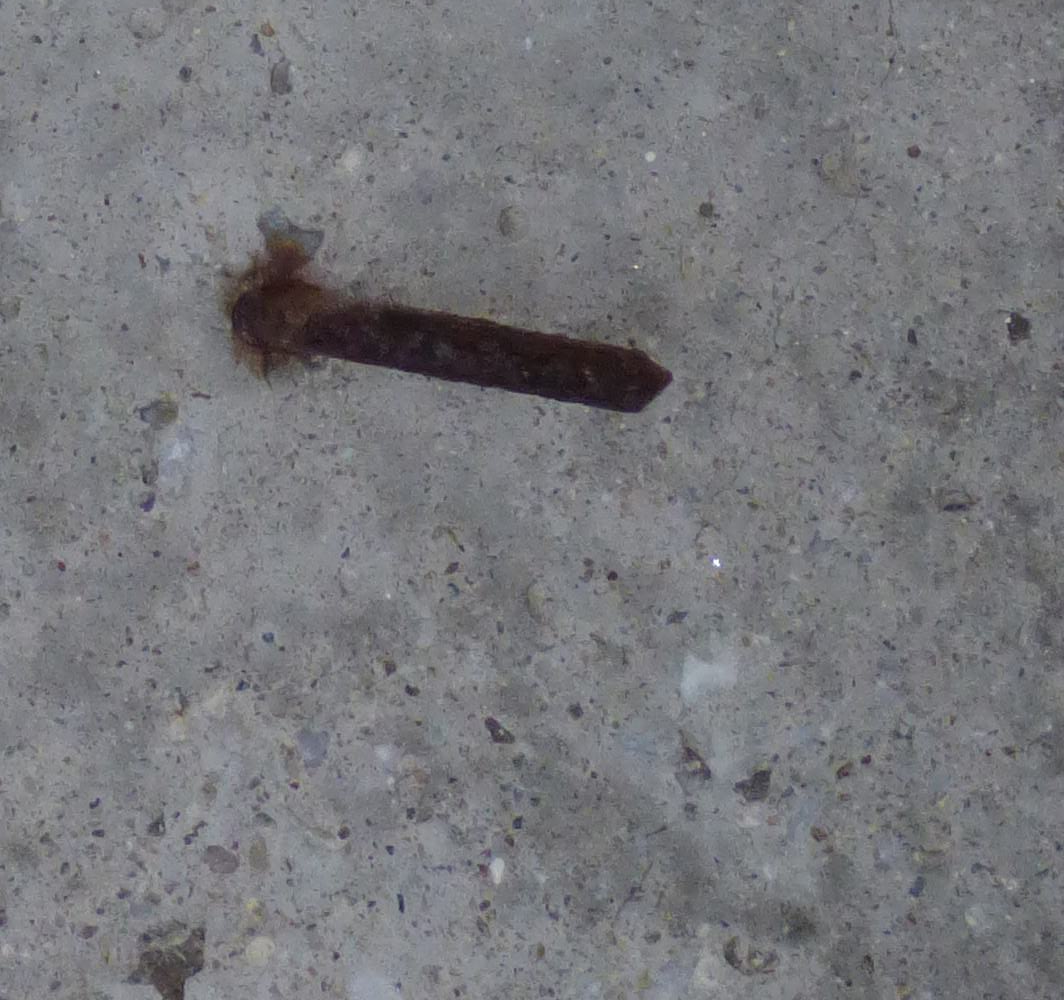Exposed reinforcement: (247, 279, 674, 414)
